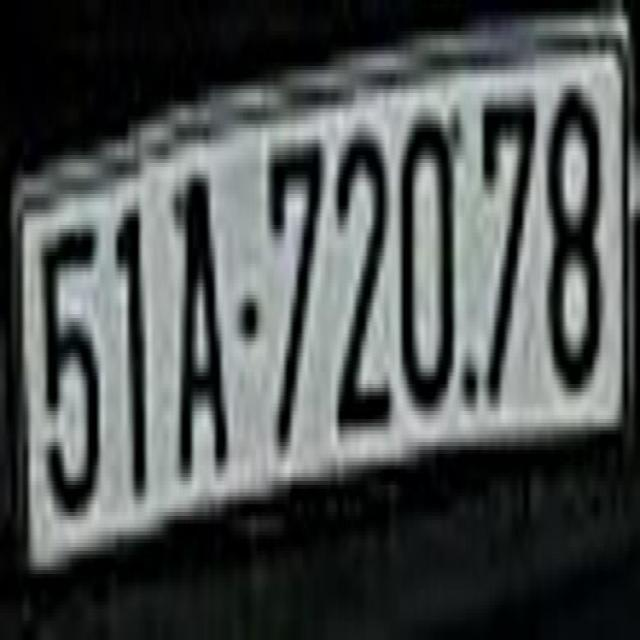0: (396, 116, 458, 415)
1: (113, 214, 155, 501)
2: (336, 124, 392, 423)
5: (44, 217, 104, 520)
7: (479, 90, 537, 403), (262, 158, 320, 466)
8: (553, 70, 600, 400)
A: (174, 151, 228, 473)
